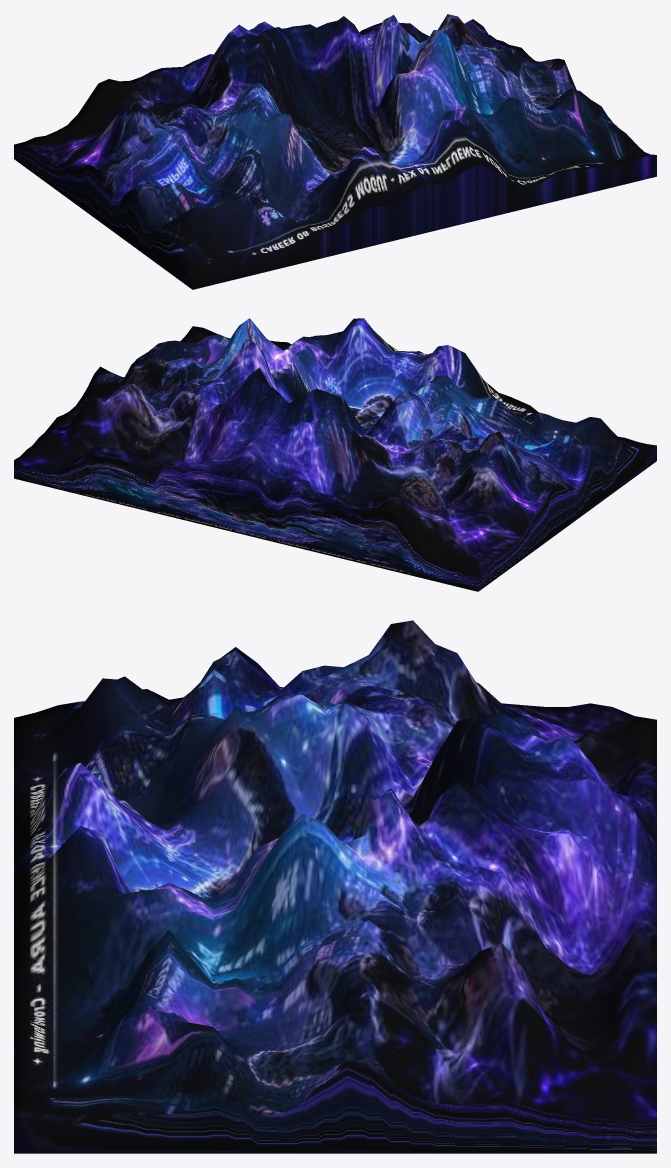
File: CAREER_08_VFX_04_Influence.glb
The picture shows the model from 3 angles, top to bottom: view 1: azimuth 30°, elevation 25°; view 2: azimuth 150°, elevation 25°; view 3: azimuth 270°, elevation 25°; orthographic projection. The views are drawn at different scales.
Parts seen in each view (by area): view 1: CAREER_08_VFX_04_Influence; view 2: CAREER_08_VFX_04_Influence; view 3: CAREER_08_VFX_04_Influence.
Boxes of the visible parts, x1,y1,x2,y2 form: CAREER_08_VFX_04_Influence: [14, 14, 656, 289]; CAREER_08_VFX_04_Influence: [14, 318, 656, 591]; CAREER_08_VFX_04_Influence: [14, 620, 656, 1153].
Bounding box in the file's own units: 2 × 0.51 × 1.33.
Materials: 1 (1 with a texture image).
